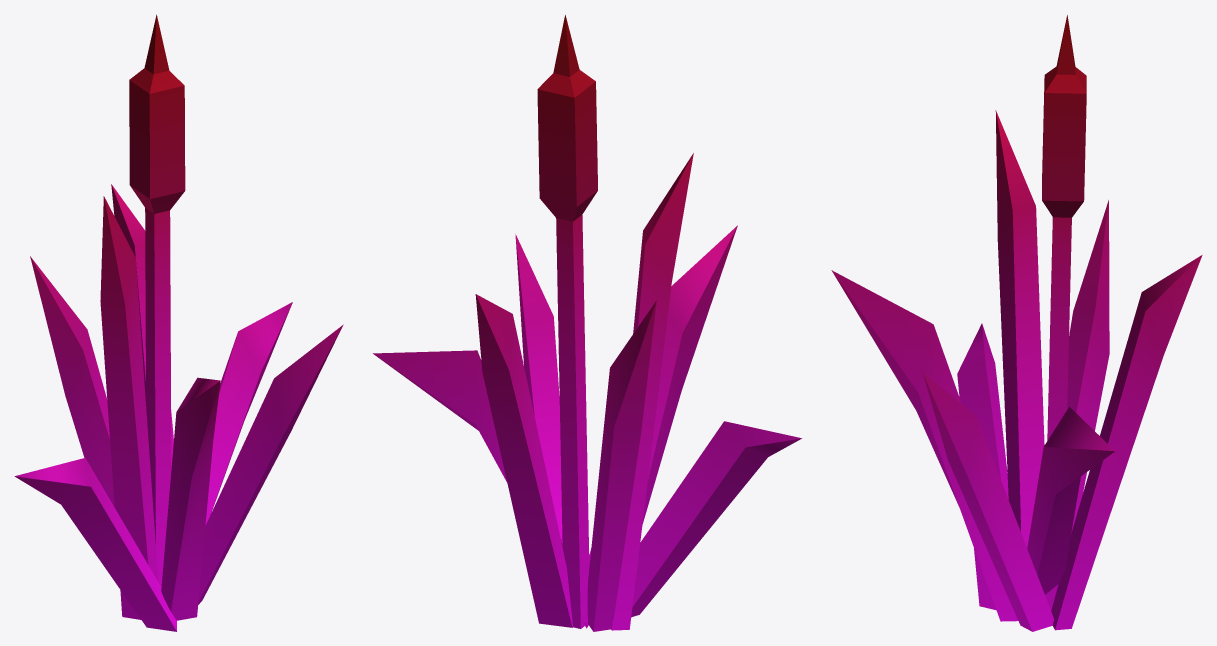
File: synty-plant-reeds-01.gltf
The picture shows the model from 3 angles, left to right: view 1: azimuth 30°, elevation 25°; view 2: azimuth 150°, elevation 25°; view 3: azimuth 270°, elevation 25°; orthographic projection. The views are drawn at different scales.
Visible parts, largest first — view 1: SM_Plant_Reeds_01; view 2: SM_Plant_Reeds_01; view 3: SM_Plant_Reeds_01.
Part boxes in pixels (box(x1,y1,x2,y2)): SM_Plant_Reeds_01: box(14, 14, 343, 631); SM_Plant_Reeds_01: box(373, 15, 801, 631); SM_Plant_Reeds_01: box(831, 15, 1202, 631).
Bounding box in the file's own units: 0.8319 × 1.35 × 0.7516.
Materials: 1 (1 with a texture image).
